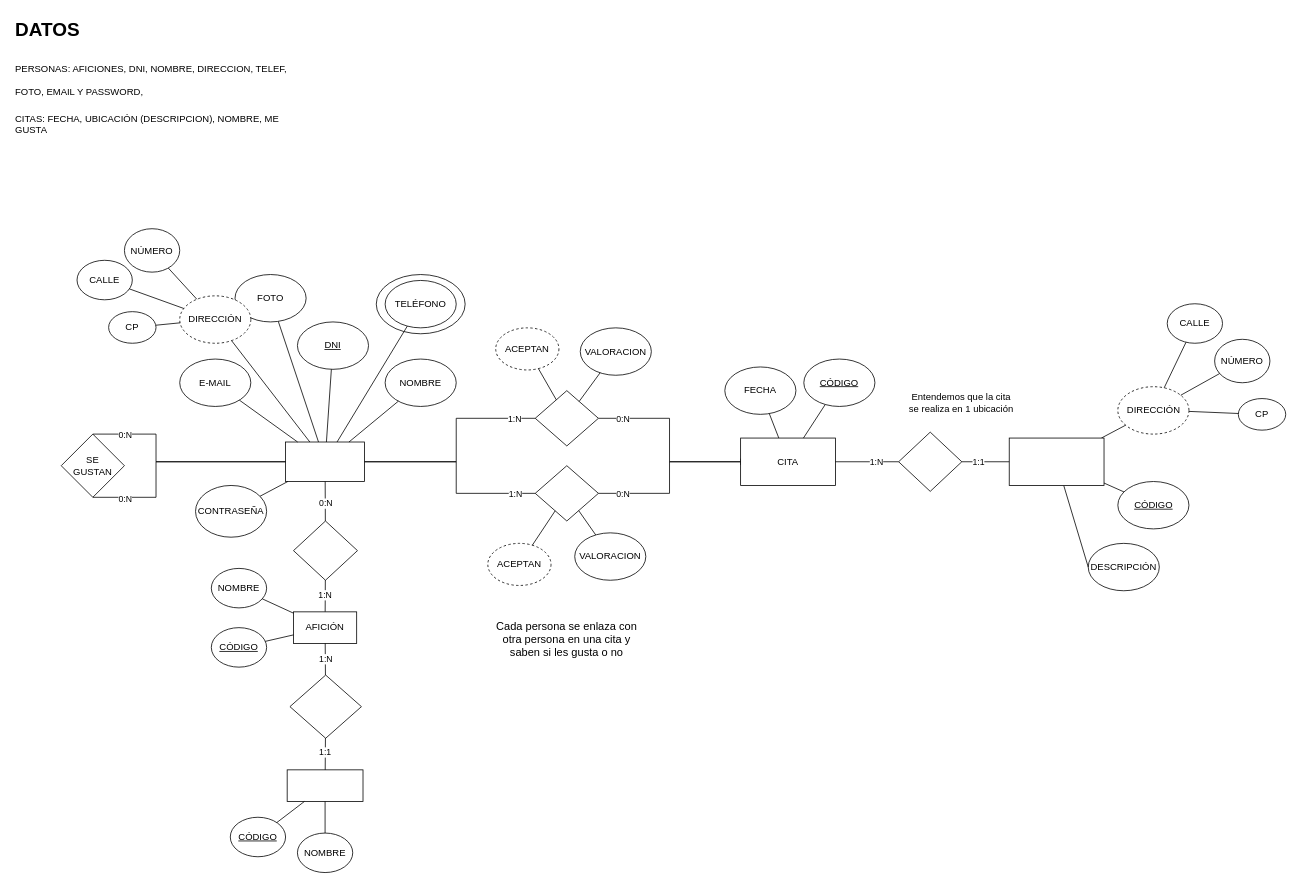
The diagram is 1300 pixels wide and 886 high, and some of its shapes have lost their labels. The centre of each missing label's shape, as x and y in pixels:
CATEGORÍA: pixel 324 785
ELIGE: pixel 325 550
ENLACE1: pixel 566 418
ENLACE2: pixel 566 493
PERTENCE: pixel 325 706
REALIZA: pixel 930 461
UBICACIÓN: pixel 1056 461
USUARIOS: pixel 325 461
